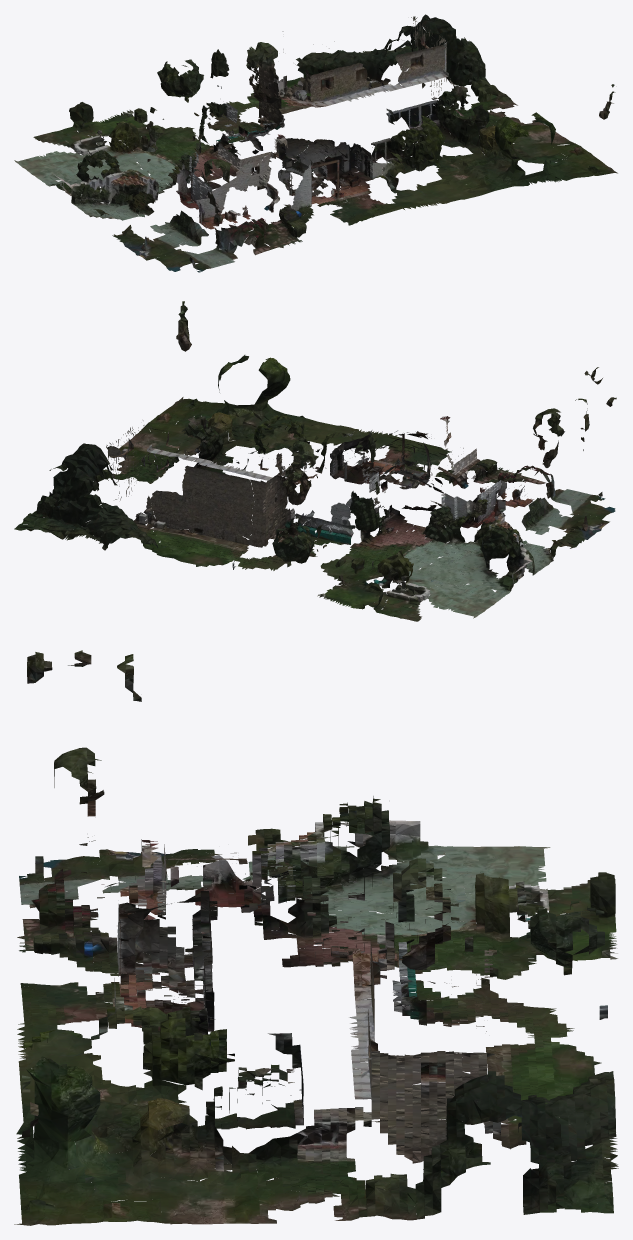
Rendered from exterior_2.glb.
3 renders of one model, top to bottom at view 1: azimuth 30°, elevation 25°; view 2: azimuth 150°, elevation 25°; view 3: azimuth 270°, elevation 25°, orthographic. The views are drawn at different scales.
Parts seen in each view (by area): view 1: geometry_1, geometry_2; view 2: geometry_1, geometry_2; view 3: geometry_1, geometry_2.
Boxes of the visible parts, bbox=[...] form: geometry_1: bbox=[33, 14, 617, 272]; geometry_2: bbox=[14, 17, 575, 271]; geometry_1: bbox=[21, 301, 605, 621]; geometry_2: bbox=[14, 355, 616, 618]; geometry_1: bbox=[14, 654, 617, 1225]; geometry_2: bbox=[17, 650, 618, 1224].
Bounding box in the file's own units: 53.16 × 15.56 × 36.78.
Materials: 2 (2 with a texture image).
